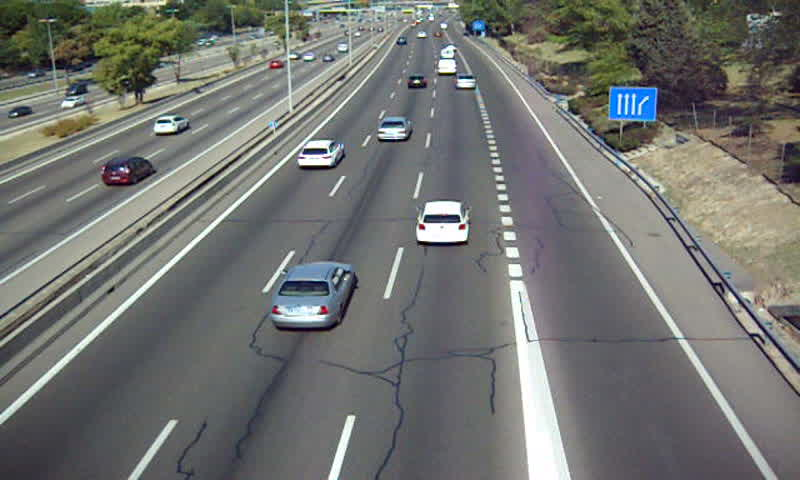car: (270, 260, 355, 329), (417, 201, 470, 244), (297, 140, 343, 168), (378, 117, 412, 142), (455, 74, 478, 92), (405, 75, 428, 90)
van: (436, 59, 457, 74), (442, 47, 456, 60)
